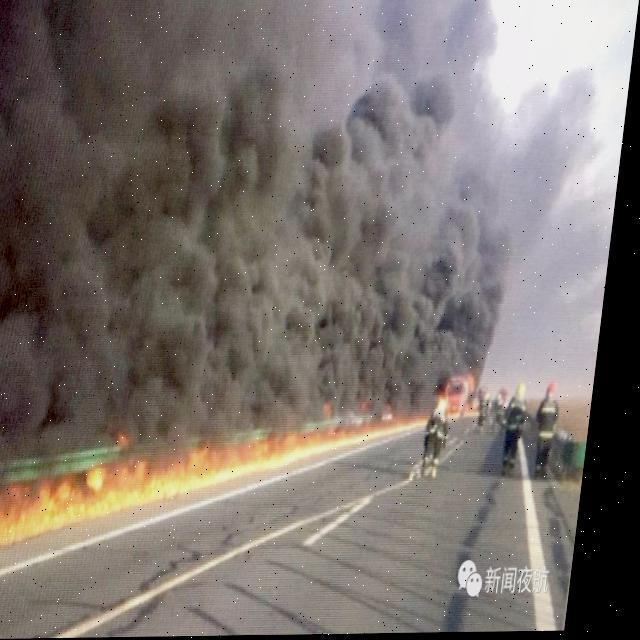Fire: (0, 375, 494, 565)
